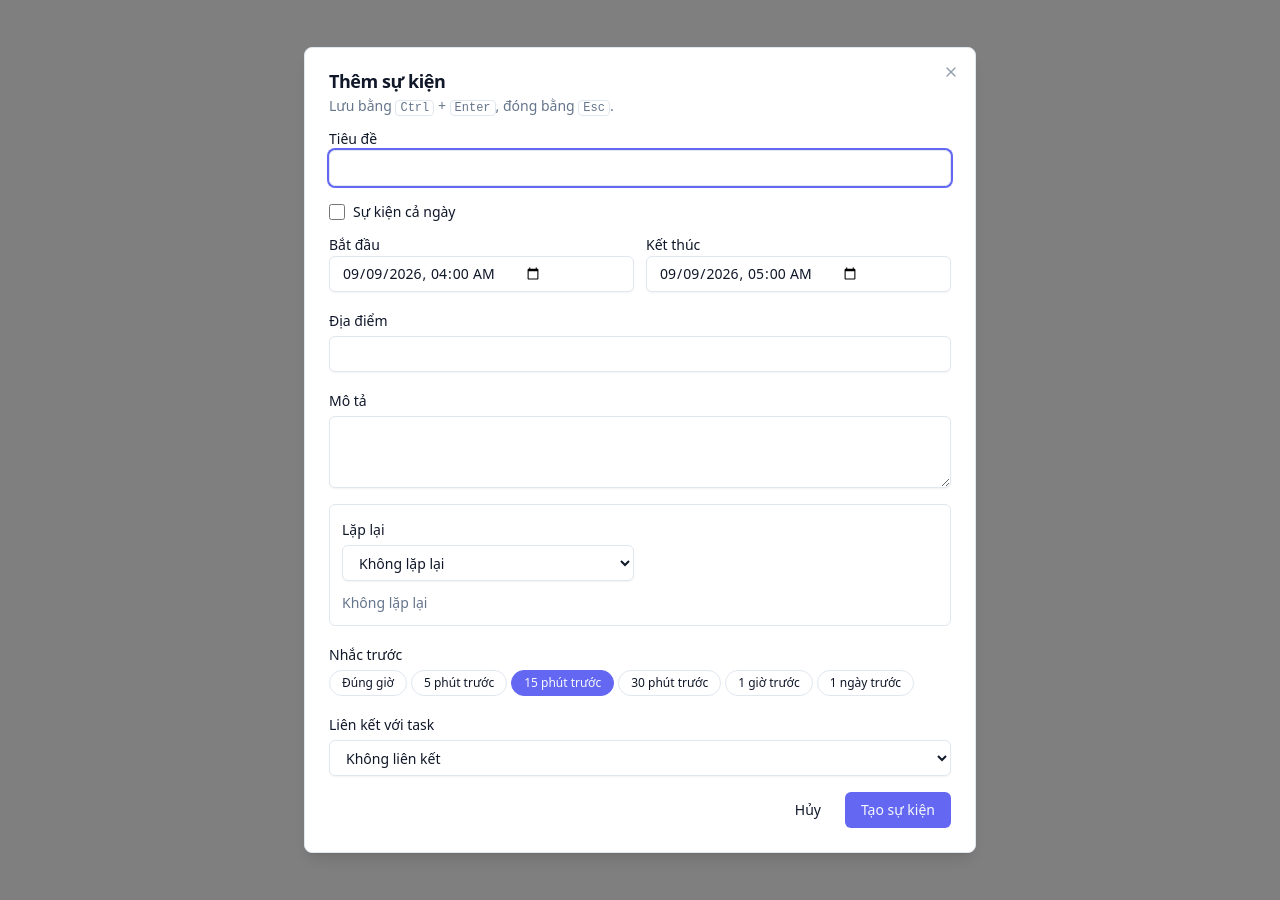
Test: EventFormDialog › bộ dựng RRULE hiện mô tả tiếng Việt của quy luật đang chọn
The width and height of the screenshot is (1280, 900).
Expected: the text "Không lặp lại" is shown, x1=342 y1=593 x2=428 y2=612
Select "Hằng tuần" in the dropdown labelled "Lặp lại" at [488, 563], box x1=342 y1=545 x2=634 y2=581
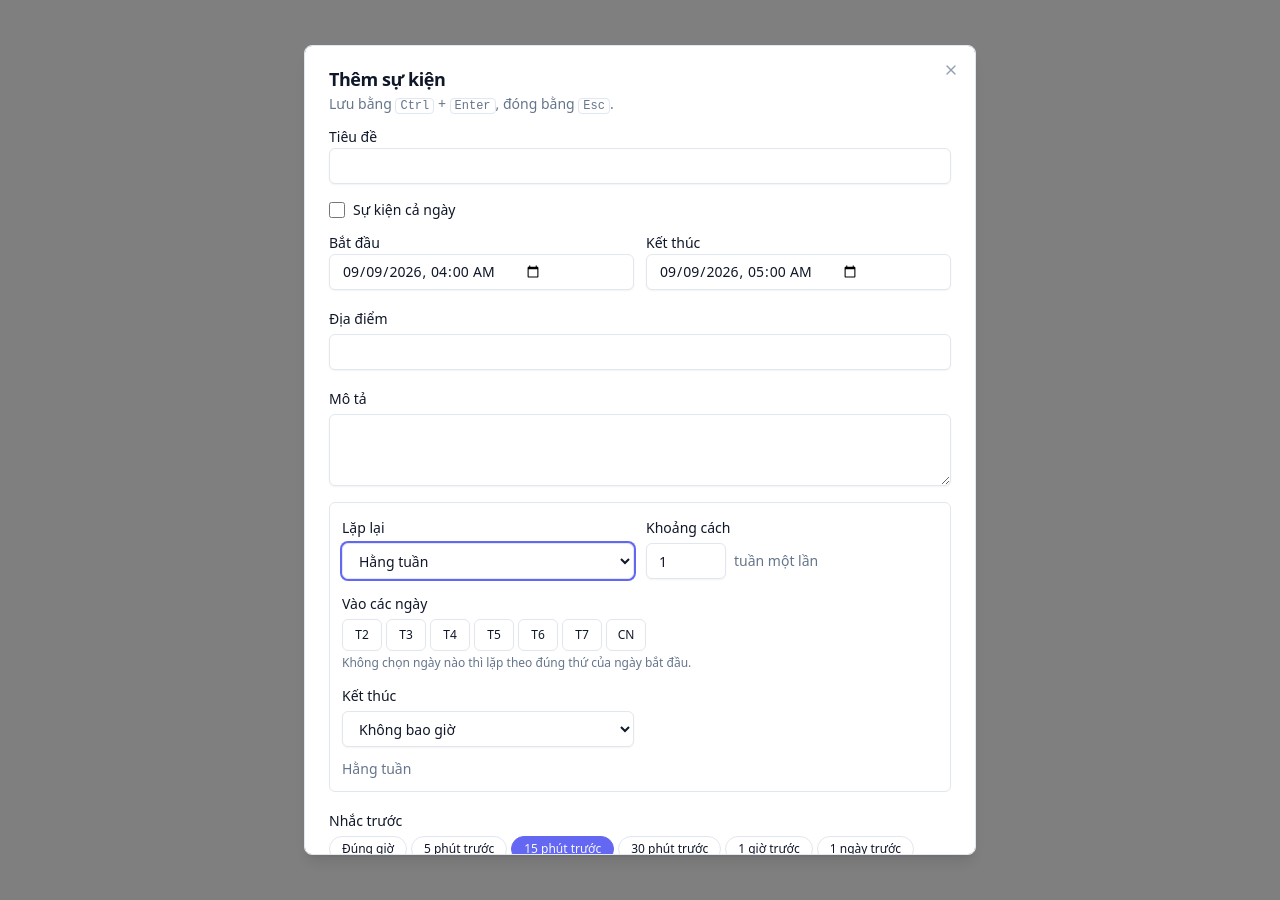
Click the button "T2".
click(362, 635)  # box x1=342 y1=619 x2=382 y2=651
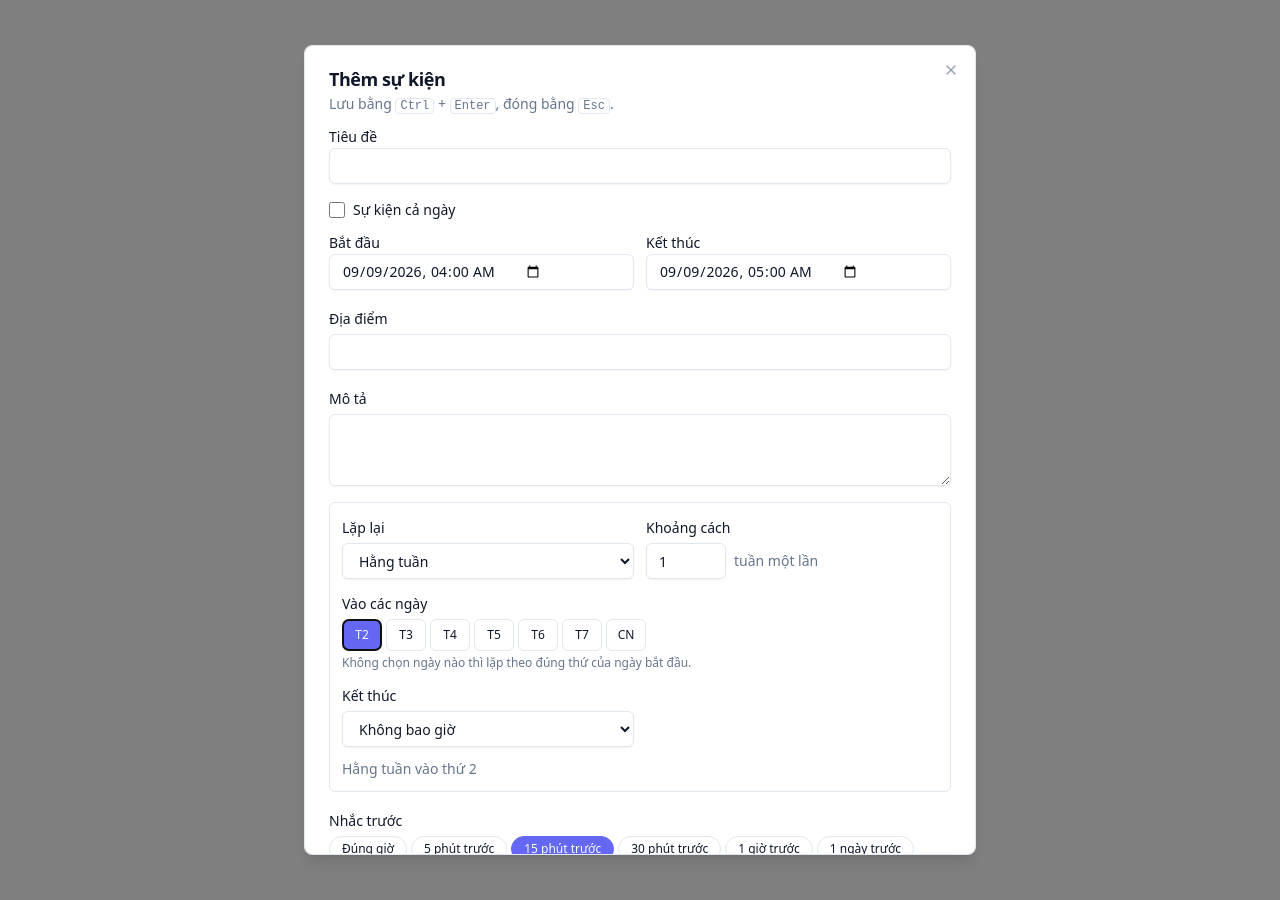
Click the button "T4".
click(450, 635)  # box x1=430 y1=619 x2=470 y2=651
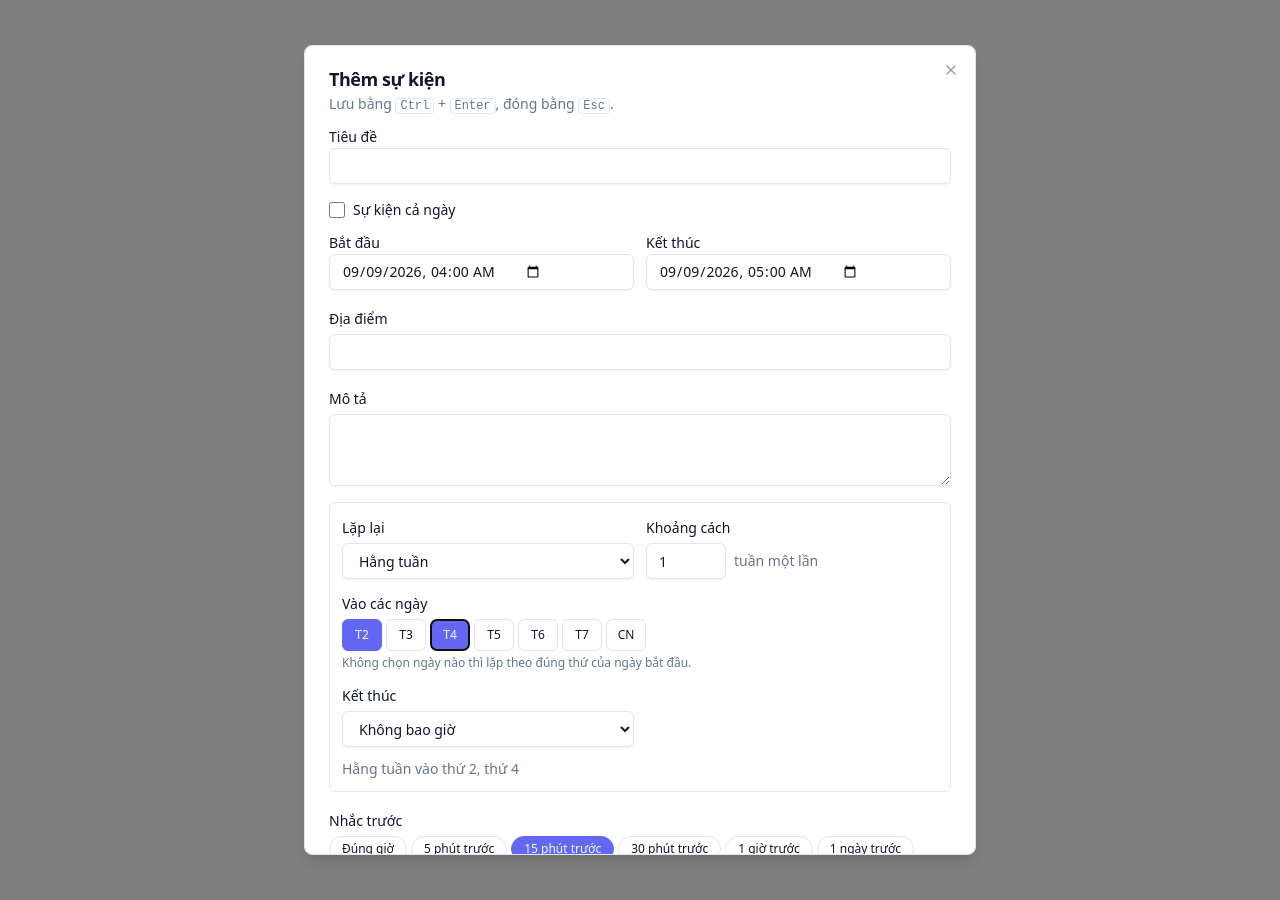
Expected: the text "Hằng tuần vào thứ 2, thứ 4" is shown, x1=342 y1=759 x2=519 y2=778
